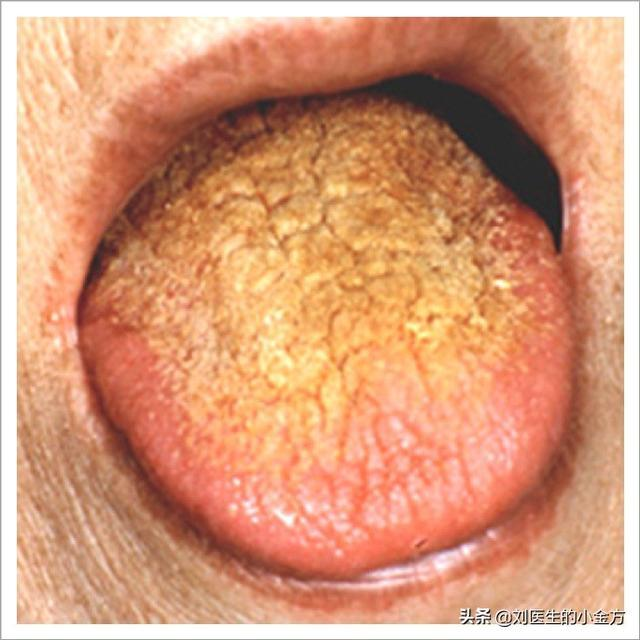tongue: (76, 96, 587, 586)
